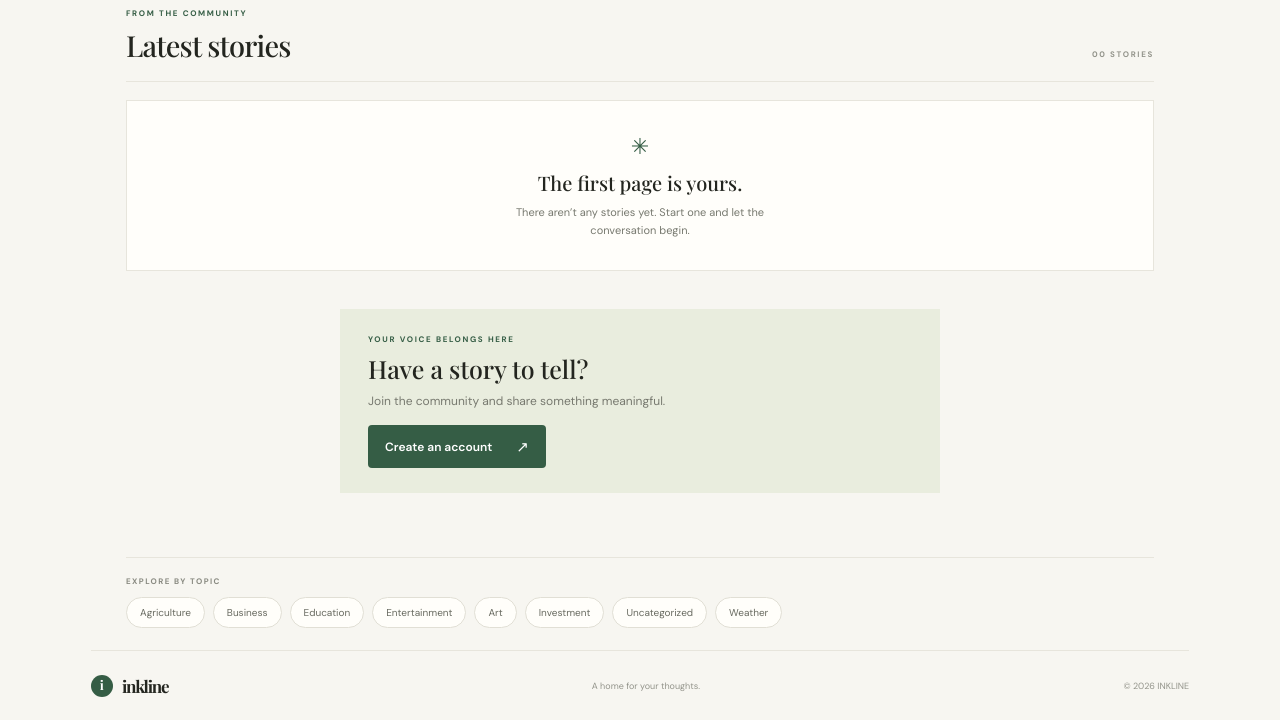
it: category buttons filter the home feed and show the empty category state
(page scrolled)
Click the button "Agriculture": [165, 613] box [126,597,205,628]
(page scrolled)
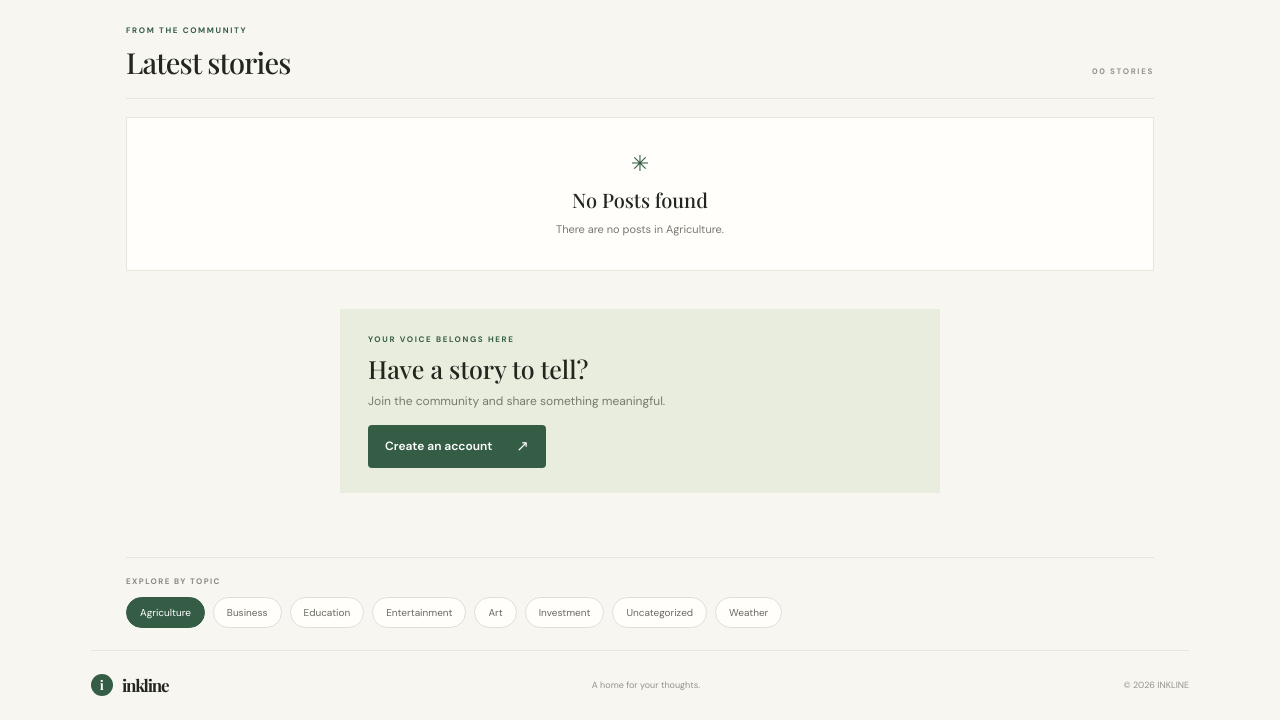
Expected: the heading "No Posts found" is shown, [572,186,708,213]
